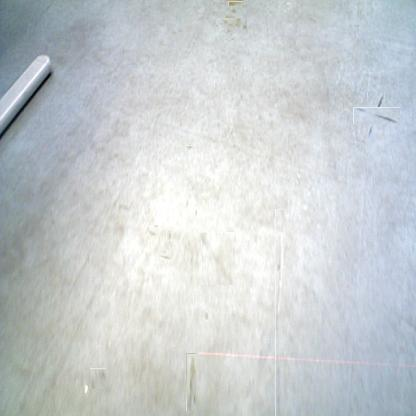liquid: (275, 209, 284, 416), (220, 13, 242, 35), (228, 1, 243, 6)
mark: (199, 232, 235, 285), (360, 100, 393, 132), (186, 353, 196, 411), (90, 368, 106, 389), (148, 226, 159, 237), (159, 251, 169, 263), (166, 230, 173, 241), (203, 310, 209, 320), (186, 143, 194, 150), (277, 263, 284, 270)
